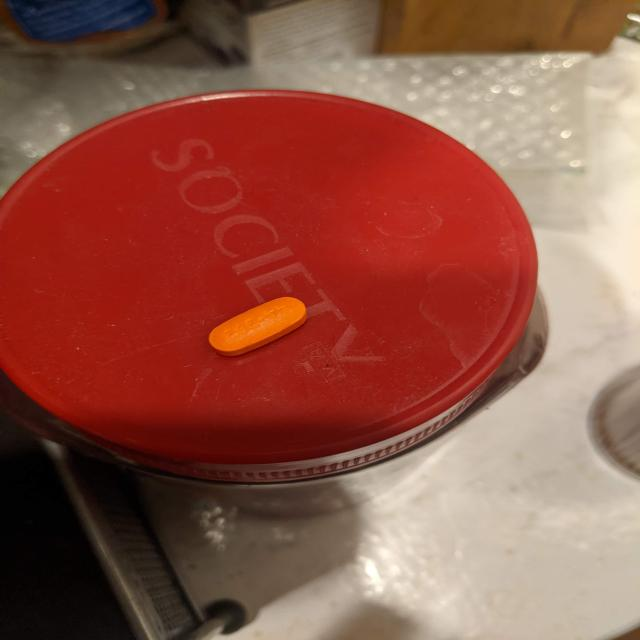non-organic waste: (208, 296, 309, 358)
